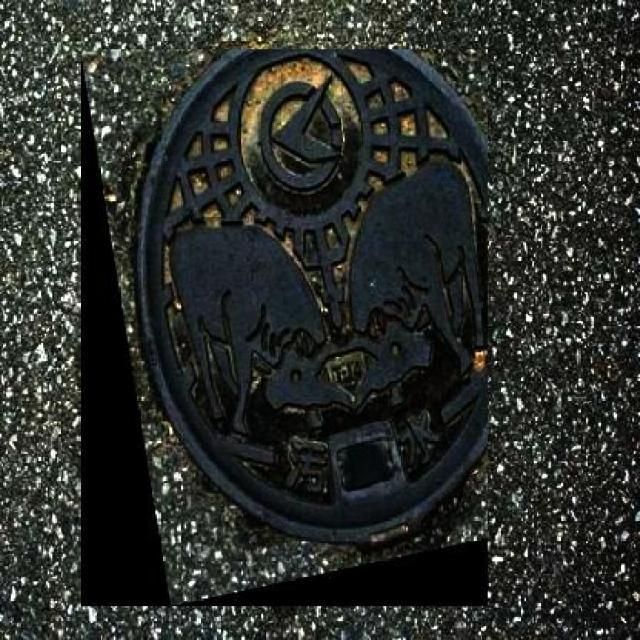Manhole: (80, 49, 488, 606)
